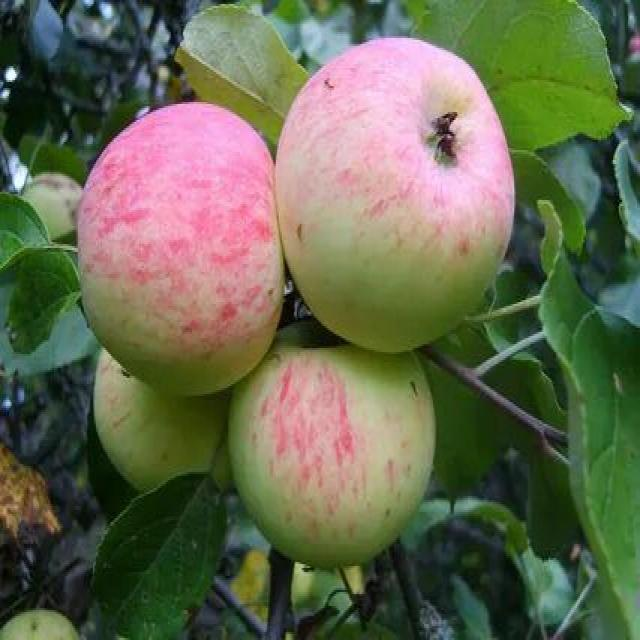Fresh Apple: (68, 112, 295, 398), (298, 51, 512, 352), (252, 340, 446, 570)
